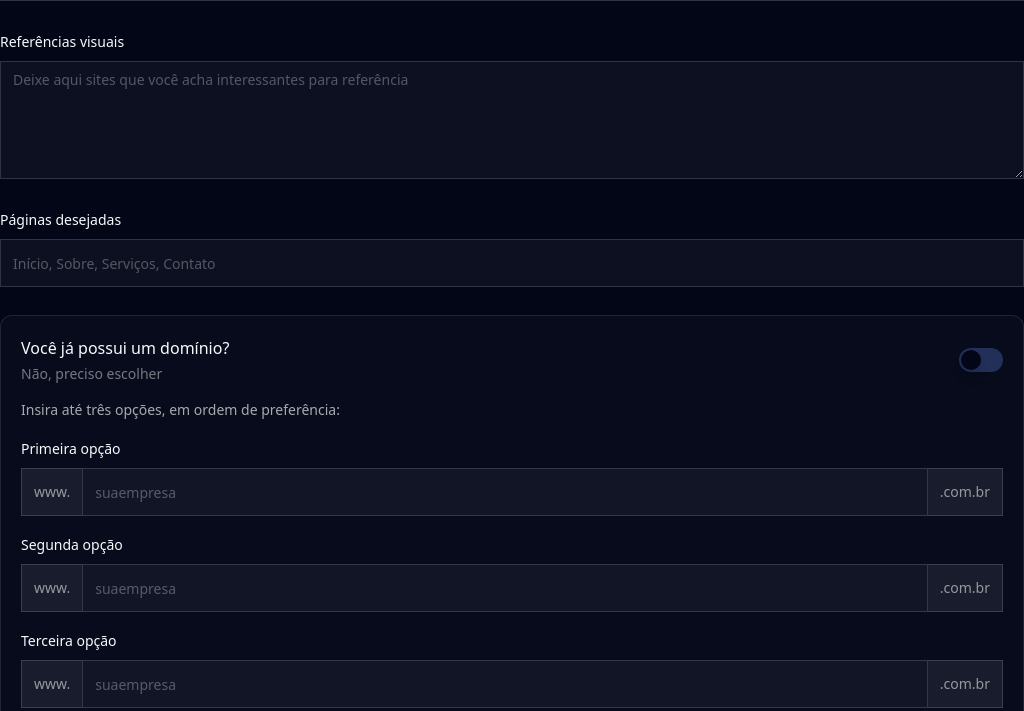
Test: BriefingForm › alterna para domínio existente e nome descritivo da cor
(page scrolled)
Click the switch named "Já possui um domínio".
click(981, 360)  # box [959,348,1003,372]
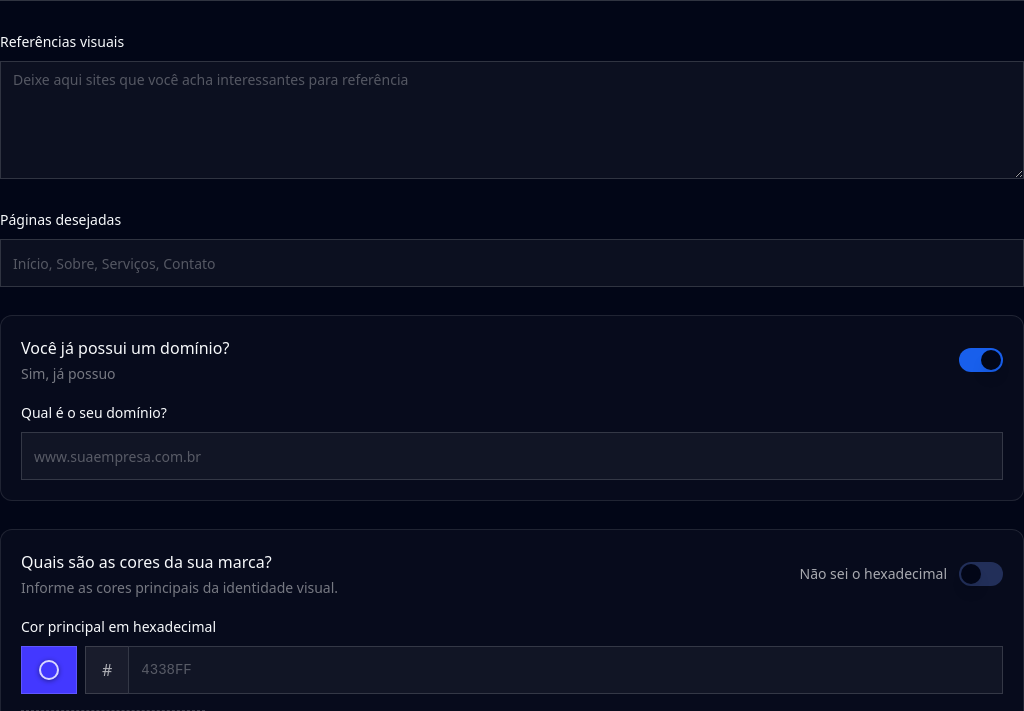
Expected: the field labelled "Qual é o seu domínio?" is shown, [21,432,1003,480]
Expected: the label labelled "Primeira opção" is gone
Click the switch named "Não sei o hexadecimal".
click(981, 574)  # box [959,562,1003,586]
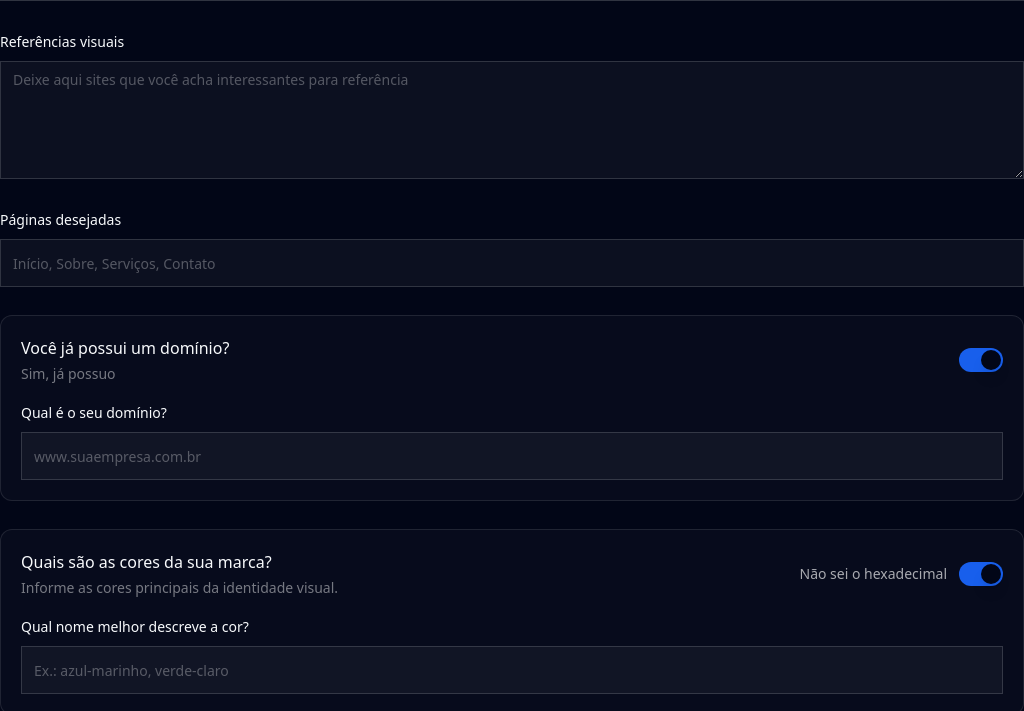
Expected: the field labelled "Qual nome melhor descreve a cor?" is shown, [21,646,1003,694]
Expected: the label labelled "Cor principal em hexadecimal" is gone
